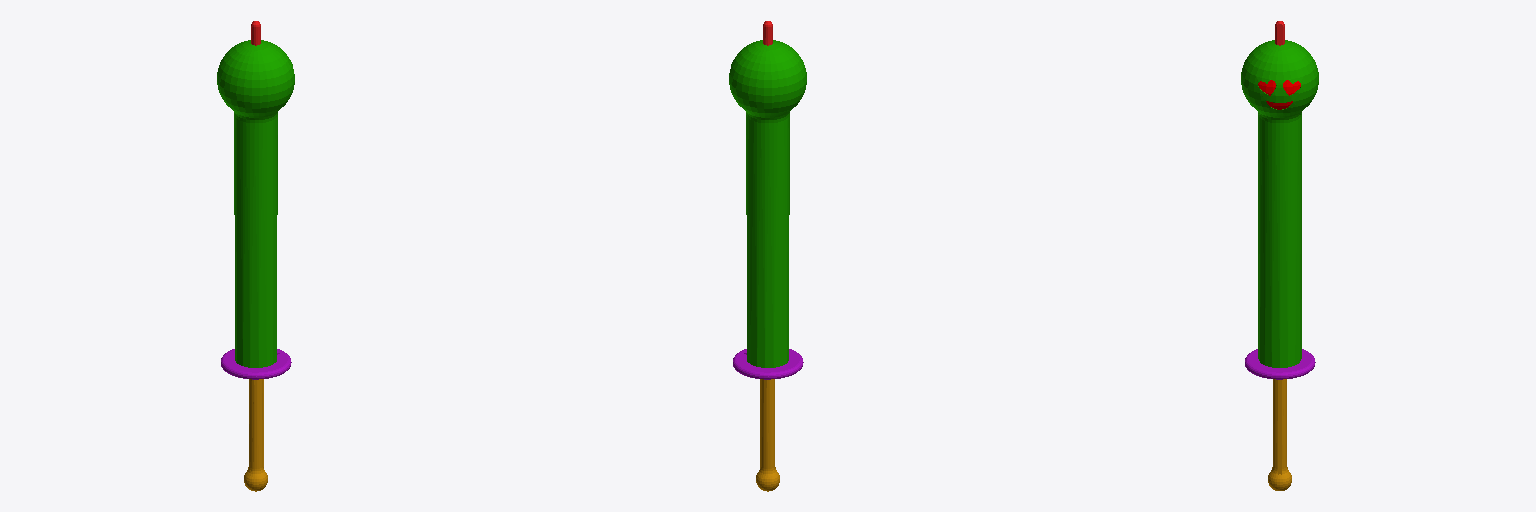
URDF robot description (pogo):
<?xml version="1.0" encoding="utf-8"?>
<robot name="pogo">
    <link name="base_pogo">
        <inertial>
            <origin xyz="-0.00041349 0 0.11352" rpy="0 0 0" />
            <mass value="9.5507" />
            <inertia ixx="0.20267" ixy="-1.9035E-09" ixz="0.00017083" iyy="0.20251" iyz="-1.4926E-09" izz="0.062877" />
        </inertial>
        <visual>
            <origin xyz="0 0 0" rpy="0 0 0" />
            <geometry>
                <mesh filename="package://pogo_test/meshes/base_pogo.STL" />
            </geometry>
            <material name="">
                <color rgba="0.675 0.11 0.761 1" />
            </material>
        </visual>
    </link>
    <link name="tip">
        <inertial>
            <origin xyz="0.0015564 0 -0.2941" rpy="0 0 0" />
            <mass value="1.4887" />
            <inertia ixx="0.041087" ixy="-1.8012E-12" ixz="-0.00015408" iyy="0.04116" iyz="4.8126E-12" izz="0.0014675" />
        </inertial>
        <visual>
            <origin xyz="0 0 0" rpy="0 0 0" />
            <geometry>
                <mesh filename="package://pogo_test/meshes/tip.STL" />
            </geometry>
            <material name="">
                <color rgba="0.82 0.576 0.063 1" />
            </material>
        </visual>
        <collision>
            <origin xyz="0 0 -0.5" rpy="0 0 0" />
            <geometry>
                <sphere radius="0.05"/>
            </geometry>
        </collision>
    </link>
    <!-- the passive joint (the "pogo" joint) -->
    <joint name="base_tip" type="prismatic">
        <origin xyz="0 0 0" rpy="0 0 0" />
        <parent link="base_pogo" />
        <child link="tip" />
        <axis xyz="0 0 1" />
        <limit lower="0" upper="0.45"/>
        <dynamics damping="100"/>
    </joint>

    <!-- link for kinematics only -->
    <link name="foot"> 
    </link>

    <joint name="tip_foot_fixed" type="fixed">
        <origin xyz="0 0 -0.5" rpy="0 0 0" />
        <parent link="tip" />
        <child link="foot" />
        <axis xyz="0 0 0" />
    </joint>

    <link name="cross">
        <inertial>
            <origin xyz="0 0 0" rpy="0 0 0" />
            <mass value="0.16" />
            <inertia ixx="0" ixy="0" ixz="0" iyy="0" iyz="0" izz="0" />
        </inertial>
        <visual>
            <origin xyz="0 0 0" rpy="0 0 0" />
            <geometry>
                <mesh filename="package://pogo_test/meshes/cross.STL" />
            </geometry>
            <material name="">
                <color rgba="1 1 1 0.5" />
            </material>
        </visual>
    </link>
    <joint name="base_cross" type="revolute">
        <origin xyz="0 0 0.04" rpy="0 0 0" />
        <parent link="base_pogo" />
        <child link="cross" />
        <axis xyz="0 1 0" />
        <limit lower="-1.0472" upper="1.0472" effort="700"/>
    </joint>
    <link name="guide">
        <inertial>
            <origin xyz="0 0 0.75" rpy="0 0 0" />
            <mass value="4.7446" />
            <inertia ixx="0.89902" ixy="4.0122E-10" ixz="3.7742E-06" iyy="0.89892" iyz="4.6169E-08" izz="0.00089298" />
        </inertial>
        <visual>
            <origin xyz="0 0 0" rpy="0 0 0" />
            <geometry>
                <mesh filename="package://pogo_test/meshes/guide.STL" />
            </geometry>
            <material name="">
                <color rgba="0.91 0.157 0.157 1" />
            </material>
        </visual>
    </link>
    <joint name="cross_guide" type="revolute">
        <origin xyz="0 0 0" rpy="0 0 0" />
        <parent link="cross" />
        <child link="guide" />
        <axis xyz="1 0 0" />
        <limit lower="-1.0472" upper="1.0472" effort="700"/>
    </joint>
    <link name="mass">
        <inertial>
            <origin xyz="0 0 0.57391" rpy="0 0 0" />
            <mass value="70.816" />
            <inertia ixx="8.2491" ixy="-1.3363E-05" ixz="0.0083979" iyy="8.2476" iyz="-7.1984E-05" izz="0.3199" />
        </inertial>
        <visual>
            <origin xyz="0 0 0" rpy="0 0 0" />
            <geometry>
                <mesh filename="package://pogo_test/meshes/mass.STL" />
            </geometry>
            <material name="">
                <color rgba="0.141 0.659 0.016 1" />
            </material>
        </visual>
        <collision>
            <origin xyz="0 0 0.75" rpy="0 0 0" />
            <geometry>
                <cylinder radius="0.05" length="1"/>
            </geometry>
        </collision>
    </link>
    <joint name="guide_mass" type="prismatic">
        <origin xyz="0 0 0" rpy="0 0 0" />
        <parent link="guide" />
        <child link="mass" />
        <axis xyz="0 0 1" />
        <limit lower="0" upper="0.4" effort="3500"/>
    </joint>
    <!-- link for kinematics only (and visual touch) -->
    <link name="head">
        <visual>
            <origin xyz="0 0 0" rpy="0 0 0" />
            <geometry>
                <sphere radius="0.15" />
            </geometry>
            <material name="">
                <color rgba="1 0 0 1" />
            </material>
        </visual>
    </link>
    <joint name="mass_head" type="fixed">
        <origin xyz="0 0 1.26" rpy="0 0 0" />
        <parent link="mass" />
        <child link="head" />
    </joint>
</robot>


--- What the picture shows (computed from the rendered views, not written in the file) ---
Views: 3 orthographic renders of the robot side by side, from view 1: azimuth 30°, elevation 25°; view 2: azimuth 150°, elevation 25°; view 3: azimuth 270°, elevation 25°.
Robot: pogo — 7 links, 6 joints (2 revolute, 2 prismatic, 2 fixed); root link base_pogo; default pose: every joint at zero.
Links seen in each view (by area): view 1: mass, tip, base_pogo; view 2: mass, tip, base_pogo; view 3: mass, tip, base_pogo.
Link boxes in pixels (left/top/right/bottom): mass: left=217, top=40, right=294, bottom=367; tip: left=244, top=379, right=267, bottom=491; base_pogo: left=221, top=349, right=291, bottom=379; mass: left=729, top=40, right=806, bottom=367; tip: left=756, top=379, right=779, bottom=491; base_pogo: left=733, top=349, right=803, bottom=379; mass: left=1241, top=40, right=1318, bottom=367; tip: left=1268, top=379, right=1291, bottom=490; base_pogo: left=1245, top=349, right=1315, bottom=379.
Size in the robot's own frame: 0.3182 by 0.32 by 2.11 metres.
5 mesh visuals loaded from 5 distinct referenced files (5 binary STL).